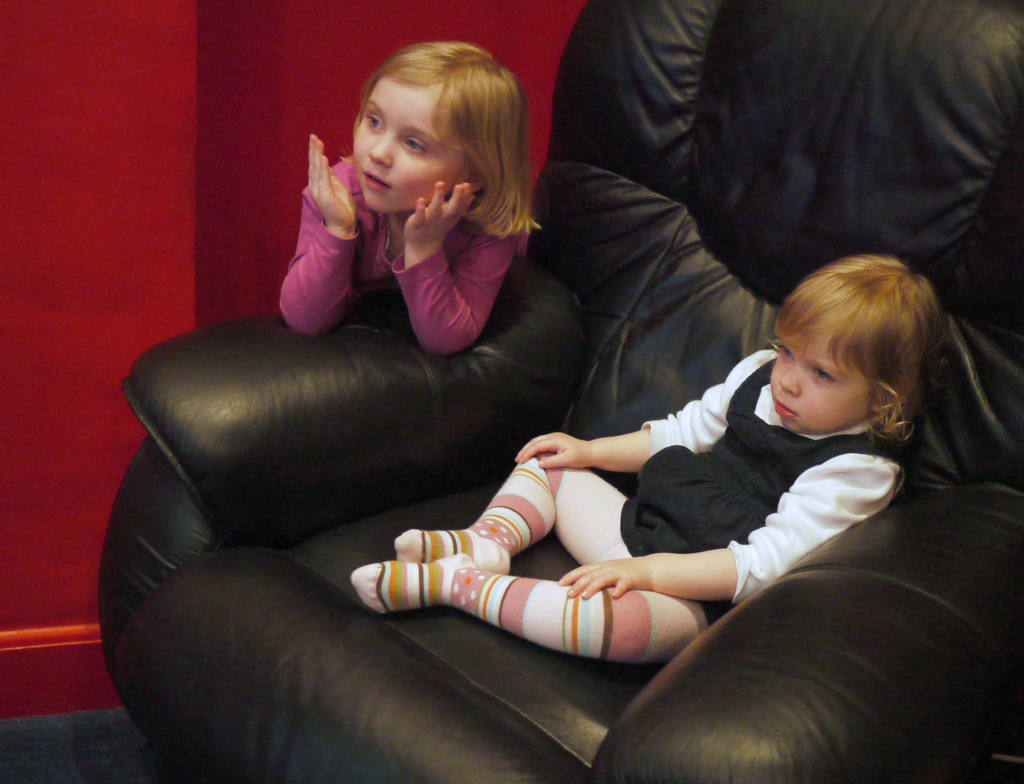Human-face: (352, 83, 466, 211), (768, 308, 872, 439)
